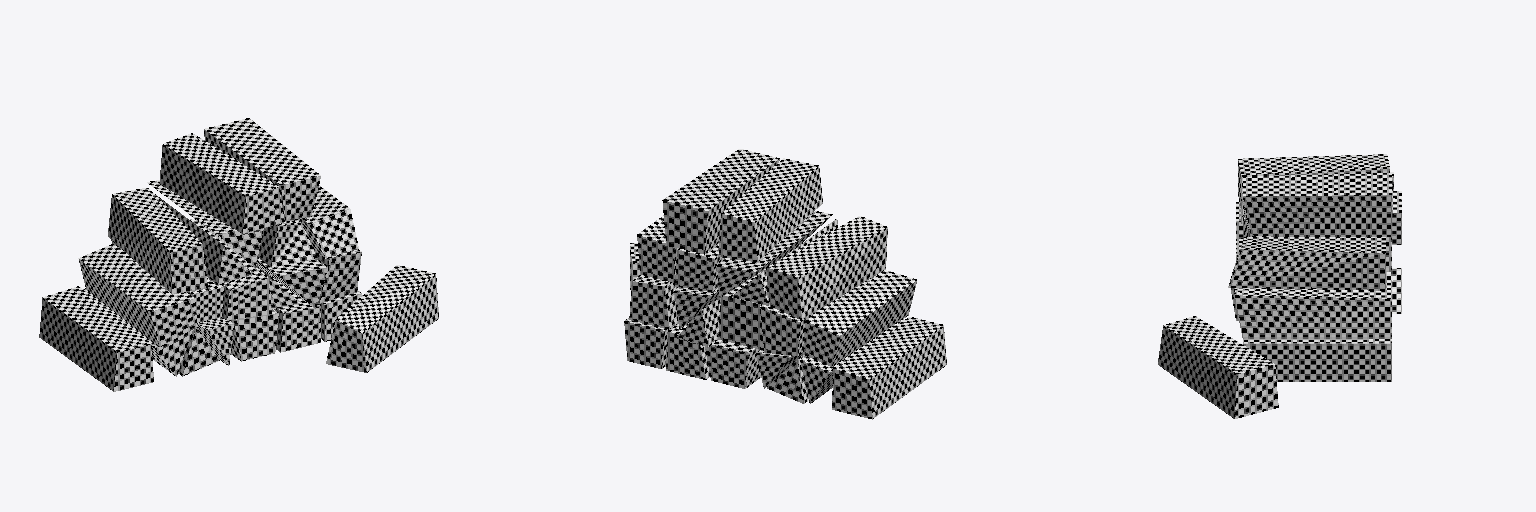
The picture shows the model from 3 angles: view 1: azimuth 30°, elevation 25°; view 2: azimuth 150°, elevation 25°; view 3: azimuth 270°, elevation 25°; orthographic projection.
Parts seen in each view (by area): view 1: Pilon_Maderos; view 2: Pilon_Maderos; view 3: Pilon_Maderos.
Boxes of the visible parts, box(x1,y1,x2,y2) form: Pilon_Maderos: box(39, 118, 438, 391); Pilon_Maderos: box(624, 149, 946, 419); Pilon_Maderos: box(1158, 154, 1401, 418).
Bounding box in the file's own units: 48.74 × 24.66 × 32.19.
1 materials, 1 textured.